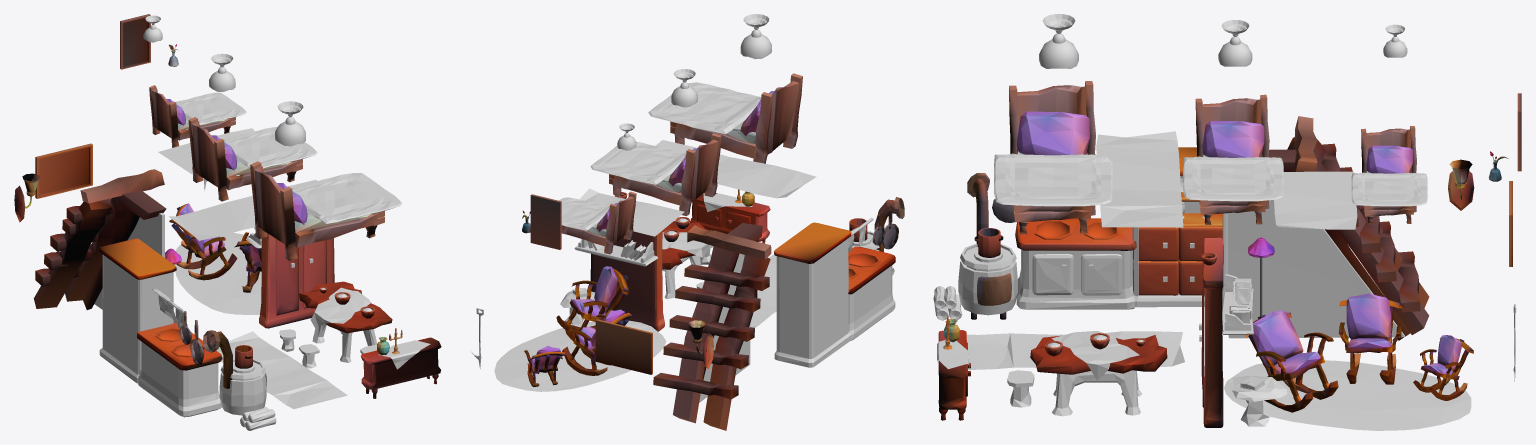
File: CottageAssets.FBX
The picture shows the model from 3 angles, left to right: view 1: azimuth 30°, elevation 25°; view 2: azimuth 150°, elevation 25°; view 3: azimuth 270°, elevation 25°; orthographic projection. The views are drawn at different scales.
Parts seen in each view (by area): view 1: CottageAssets; view 2: CottageAssets; view 3: CottageAssets.
Part boxes in pixels (<box>): CottageAssets: <box>14,14,441,430</box>; CottageAssets: <box>470,14,904,430</box>; CottageAssets: <box>933,14,1521,430</box>.
Size of the model in its own units: 678 by 755 by 1119.
